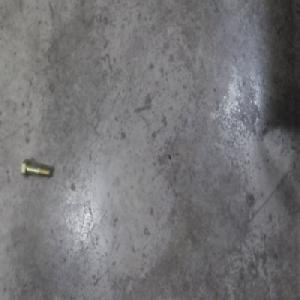Bolt: (23, 166, 53, 189)
